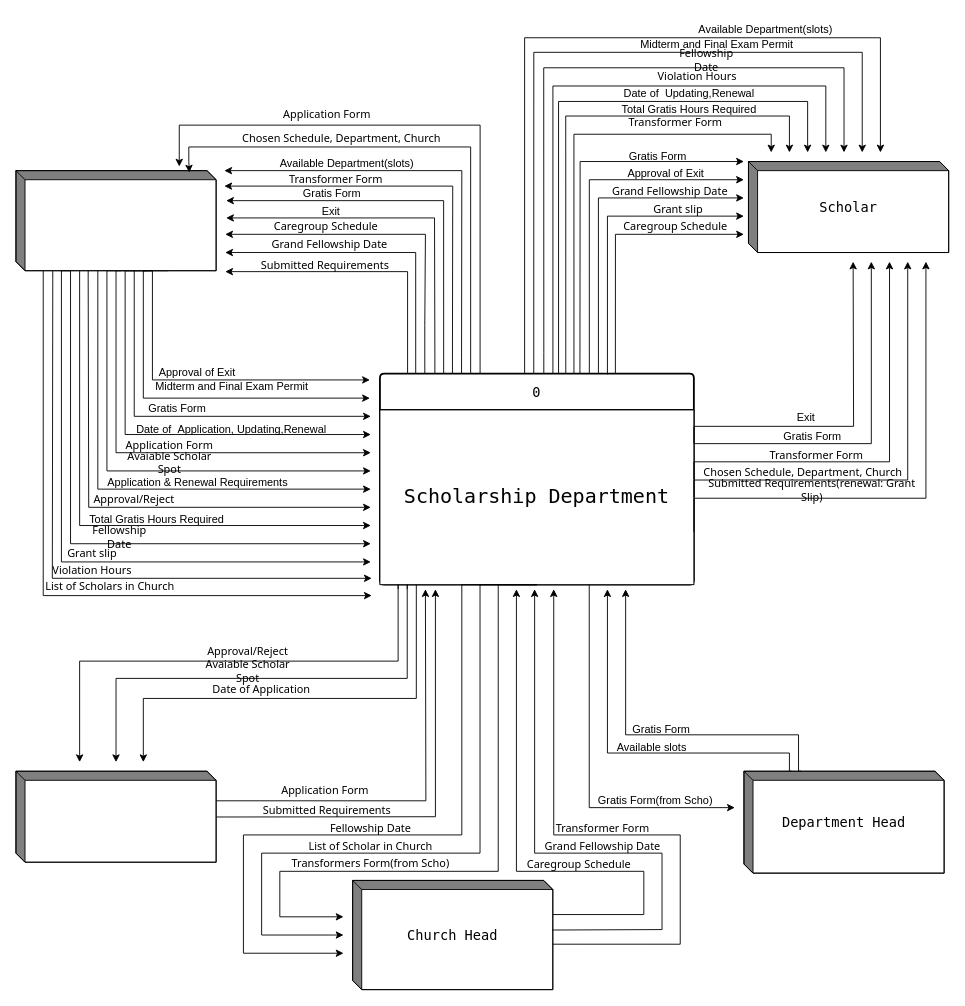
Image size: 965x1006. Some labels were removed from this diagram. Here are the shapes that lost their labels. From the top down, the centre of each, then its label:
At point 115,220: "Scholarship Admin".
At point 115,816: "Applicant".
